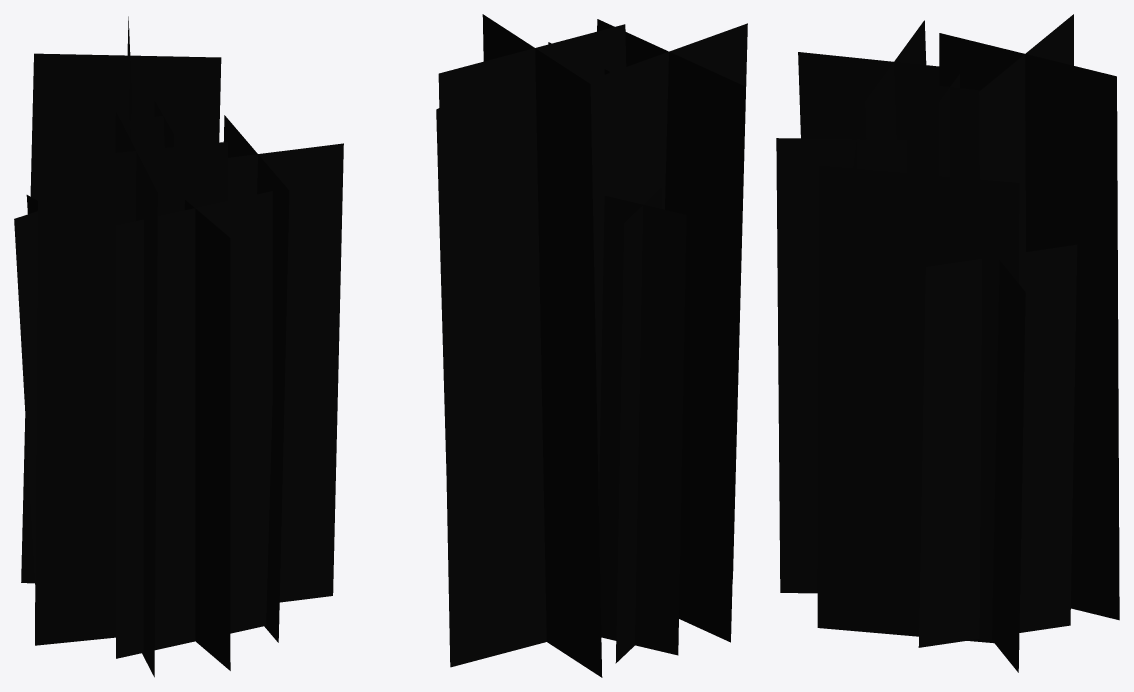
File: lod_vbg_fir_co.obj
The picture shows the model from 3 angles, left to right: view 1: azimuth 30°, elevation 25°; view 2: azimuth 150°, elevation 25°; view 3: azimuth 270°, elevation 25°; orthographic projection. The views are drawn at different scales.
Parts seen in each view (by area): view 1: lod_vbg_fir_co; view 2: lod_vbg_fir_co; view 3: lod_vbg_fir_co.
Part boxes in pixels (x1=…): lod_vbg_fir_co: x1=14, y1=16, x2=343, y2=677; lod_vbg_fir_co: x1=436, y1=14, x2=747, y2=677; lod_vbg_fir_co: x1=776, y1=14, x2=1119, y2=672.
Size of the model in its own units: 66.37 by 115 by 64.53.
3 materials, 3 textured.
